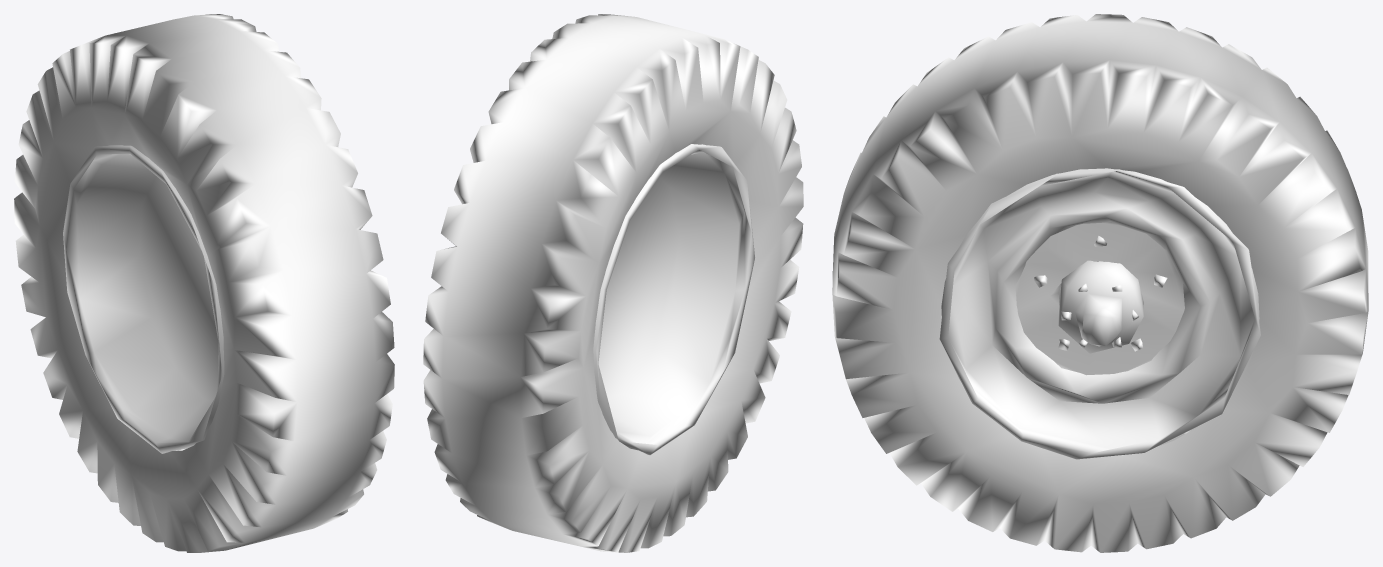
3 renders of one model, left to right at view 1: azimuth 30°, elevation 25°; view 2: azimuth 150°, elevation 25°; view 3: azimuth 270°, elevation 25°, orthographic.
Size of the model in its own units: 0.2645 by 0.741 by 0.7412.
Materials: 1 (1 with a texture image).
